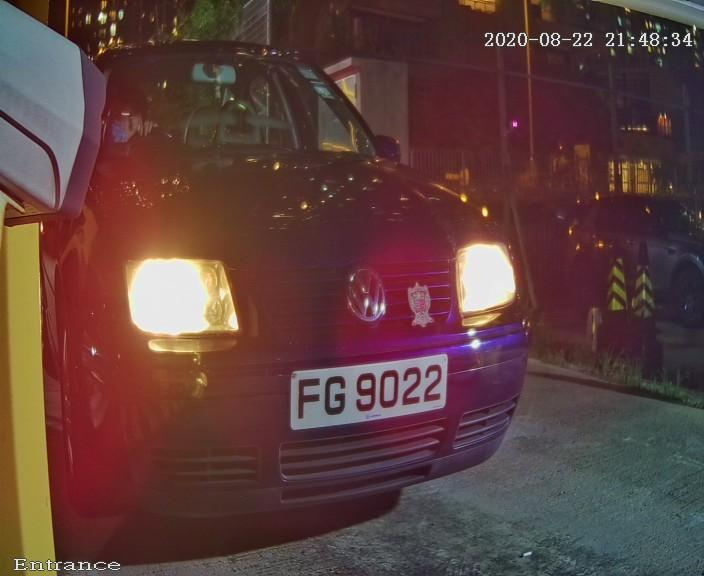Car: (32, 8, 585, 553)
License Plate: (258, 325, 469, 461)
